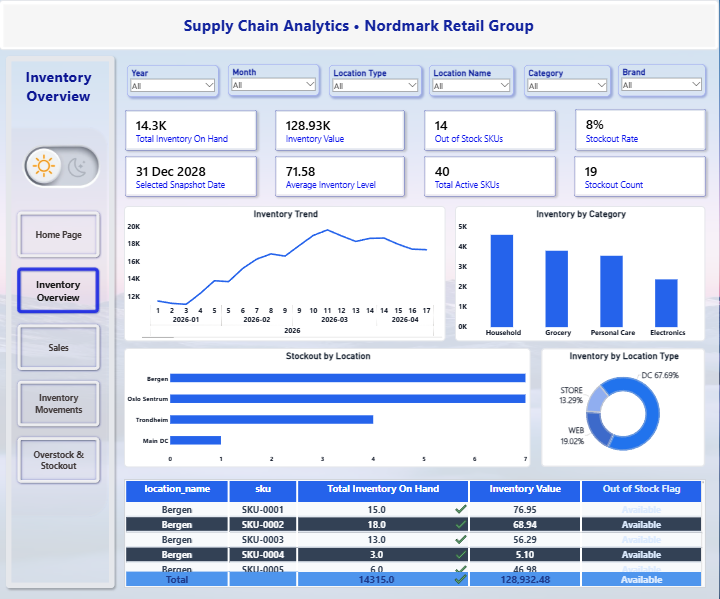

The dashboard page shown, as its layout file describes it:
{"tool":"powerbi","page":{"name":"Inventory Overview","canvas":[3600,3000],"ordinal":1},"visuals":[{"type":"slicer","fields":{"Values":["dim_date.Month (Short)"]},"box":[1142.7,322.7,456.4,158],"z":0,"group":"g3"},{"type":"group","id":"g1","title":"Group 2","box":[630,547.2,2903.9,205.9],"z":0,"group":"g4"},{"type":"cardVisual","fields":{"Data":["A Measures.Total Inventory On Hand"]},"box":[630,550.5,659.1,201.7],"z":0,"group":"g1"},{"type":"cardVisual","fields":{"Data":["A Measures.Selected Snapshot Date"]},"box":[630,780.5,659.1,201.7],"z":0,"group":"g2"},{"type":"slicer","fields":{"Values":["silver__location_master__lite.location_name"]},"box":[2152.2,325.8,423.3,155],"z":1000,"group":"g3"},{"type":"cardVisual","fields":{"Data":["A Measures.Inventory Value"]},"box":[1381.1,550.5,648,201.7],"z":1000,"group":"g1"},{"type":"shape","box":[33.7,632.2,515,1960],"z":1000},{"type":"group","id":"g2","title":"Group 2","box":[630,780.5,2905,201.7],"z":1000,"group":"g4"},{"type":"cardVisual","fields":{"Data":["A Measures.Average Inventory Level"]},"box":[1381.1,780.5,648,201.7],"z":1000,"group":"g2"},{"type":"slicer","fields":{"Values":["silver__product_master__lite.brand"]},"box":[3094.7,321.7,436.5,161],"z":2000,"group":"g3"},{"type":"cardVisual","fields":{"Data":["A Measures.Out of Stock SKUs"]},"box":[2124.8,550.5,659.1,201.7],"z":2000,"group":"g1"},{"type":"cardVisual","fields":{"Data":["A Measures.Total Active SKUs"]},"box":[2124.8,780.5,659.1,201.7],"z":2000,"group":"g2"},{"type":"shape","box":[33.7,280.5,542.4,2659.6],"z":3000},{"type":"slicer","fields":{"Values":["silver__product_master__lite.category"]},"box":[2625.1,325.8,433.2,158],"z":3000,"group":"g3"},{"type":"cardVisual","fields":{"Data":["A Measures.Stockout Rate %"]},"box":[2879.1,547.2,654.8,205.9],"z":3000,"group":"g1"},{"type":"cardVisual","fields":{"Data":["A Measures.Stockout Count"]},"box":[2875.9,780.5,659.1,201.7],"z":3000,"group":"g2"},{"type":"slicer","fields":{"Values":["dim_date.Year"]},"box":[639.7,325.8,457.4,159.4],"z":4000,"group":"g3"},{"type":"slicer","fields":{"Values":["silver__location_master__lite.location_type"]},"box":[1648.4,325.8,463,158],"z":5000,"group":"g3"},{"type":"lineChart","title":"Inventory Trend","fields":{"Category":["dim_date.Year","dim_date.Year-Month","dim_date.ISO Week Number"],"Y":["A Measures.Inventory On Hand (Month End)"]},"box":[624.7,1028.7,1608.5,677.1],"z":5000},{"type":"clusteredBarChart","title":"Stockout by Location","fields":{"Category":["silver__location_master__lite.location_name"],"Y":["A Measures.Out of Stock SKUs"]},"box":[625,1740,2033.3,596.7],"z":6000},{"type":"clusteredColumnChart","title":"Inventory by Category","fields":{"Category":["silver__product_master__lite.category"],"Y":["A Measures.Inventory On Hand (Month End)"]},"box":[2280,1030,1252.4,676.7],"z":7000},{"type":"donutChart","title":"Inventory by Location Type","fields":{"Category":["silver__location_master__lite.location_type"],"Y":["A Measures.Total Inventory On Hand"]},"box":[2710,1740,820.6,594.5],"z":8000},{"type":"tableEx","fields":{"Values":["silver__location_master__lite.location_name","silver__product_master__lite.sku","A Measures.Total Inventory On Hand","A Measures.Inventory Value","A Measures.Out of Stock Flag"]},"box":[625,2395,2910,545],"z":9000},{"type":"group","id":"g3","title":"Group 1","box":[639.7,321.7,2891.5,157.1],"z":10000},{"type":"group","id":"g4","title":"Group 3","box":[630,547.2,2900,435],"z":11000},{"type":"pageNavigator","box":[82.3,1047.4,435,1385],"z":12000},{"type":"image","box":[41.1,669.6,540,300],"z":13000},{"type":"textbox","box":[74.8,325.4,445.1,351.6],"z":14000},{"type":"shape","box":[0,0,3598.5,250.6],"z":15000}]}

Visuals, with their boxes in screenshot pixels (x1, y1, x2, y2), scaled from the page's 3600x3000 canvas onto the 720x599 screenshot:
slicer - dim_date.Month (Short): select_region(229, 64, 320, 96)
"Group 2" group: select_region(126, 109, 707, 150)
cardVisual - A Measures.Total Inventory On Hand: select_region(126, 110, 258, 150)
cardVisual - A Measures.Selected Snapshot Date: select_region(126, 156, 258, 196)
slicer - silver__location_master__lite.location_name: select_region(430, 65, 515, 96)
cardVisual - A Measures.Inventory Value: select_region(276, 110, 406, 150)
shape: select_region(7, 126, 110, 518)
"Group 2" group: select_region(126, 156, 707, 196)
cardVisual - A Measures.Average Inventory Level: select_region(276, 156, 406, 196)
slicer - silver__product_master__lite.brand: select_region(619, 64, 706, 96)
cardVisual - A Measures.Out of Stock SKUs: select_region(425, 110, 557, 150)
cardVisual - A Measures.Total Active SKUs: select_region(425, 156, 557, 196)
shape: select_region(7, 56, 115, 587)
slicer - silver__product_master__lite.category: select_region(525, 65, 612, 97)
cardVisual - A Measures.Stockout Rate %: select_region(576, 109, 707, 150)
cardVisual - A Measures.Stockout Count: select_region(575, 156, 707, 196)
slicer - dim_date.Year: select_region(128, 65, 219, 97)
slicer - silver__location_master__lite.location_type: select_region(330, 65, 422, 97)
"Inventory Trend" lineChart: select_region(125, 205, 447, 341)
"Stockout by Location" clusteredBarChart: select_region(125, 347, 532, 467)
"Inventory by Category" clusteredColumnChart: select_region(456, 206, 706, 341)
"Inventory by Location Type" donutChart: select_region(542, 347, 706, 466)
tableEx - silver__location_master__lite.location_name x silver__product_master__lite.sku: select_region(125, 478, 707, 587)
"Group 1" group: select_region(128, 64, 706, 96)
"Group 3" group: select_region(126, 109, 706, 196)
pageNavigator: select_region(16, 209, 103, 486)
image: select_region(8, 134, 116, 194)
textbox: select_region(15, 65, 104, 135)
shape: select_region(0, 0, 719, 50)
